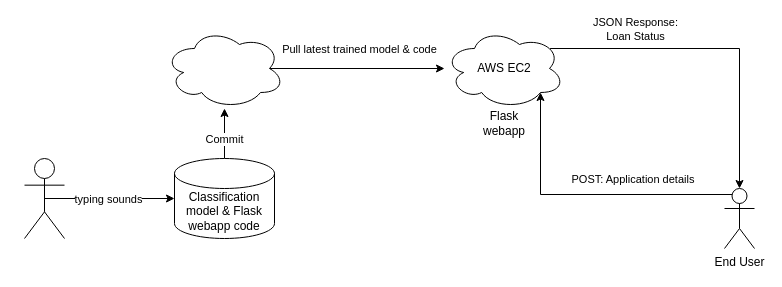
The diagram is 782 pixels wide and 287 high, and some of its shapes have lost their labels. Each missing label, with the centre of its shape:
Developer: [44,198]
GITHUB: [224,68]
